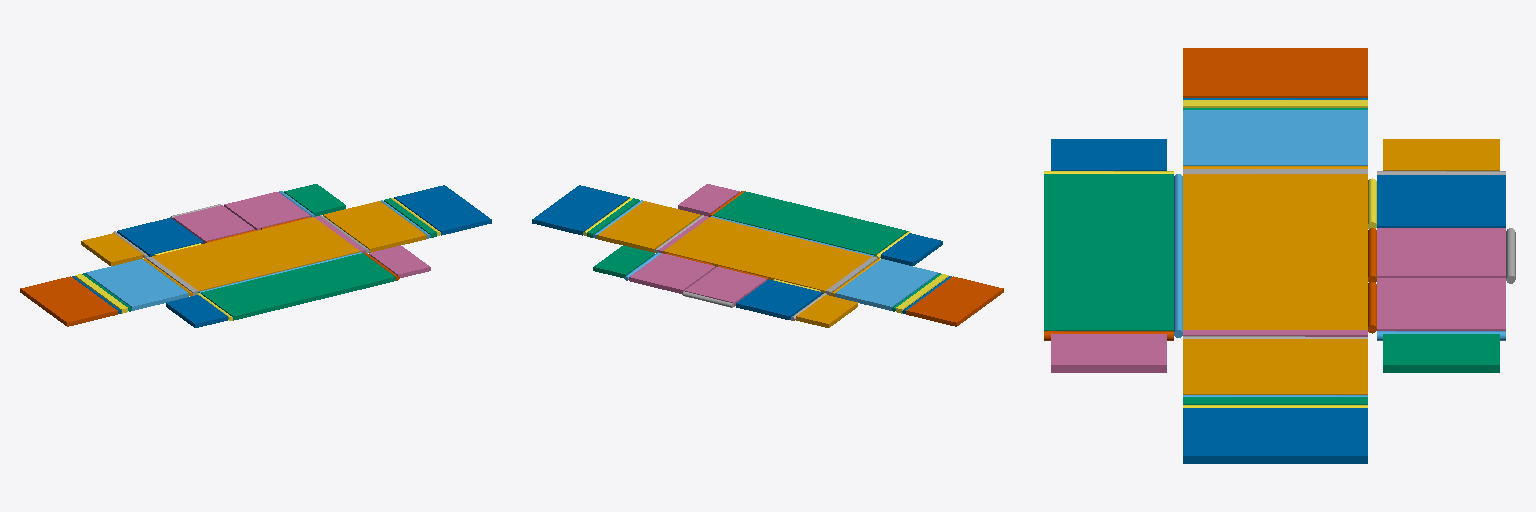
robot.urdf — box/box_bottom_left_right_top:
<?xml version="1.0"?>
<robot name="box/box_bottom_left_right_top">
 <link name="bottom">
  <inertial>
    <mass value="1"/>
    <inertia ixx="0.3335416666666667" ixy="0" ixz="0" iyy="0.41666666666666663" iyz="0" izz="0.08354166666666665"/>
  </inertial>
  <visual>
    <origin rpy="0 0 0" xyz="0 0 0"/>
    <geometry>
      <box size="2.0 1.0 0.05"/>
    </geometry>
  </visual>
  <collision>
    <origin rpy="0 0 0" xyz="0 0 0"/>
    <geometry>
      <box size="2.0 1.0 0.05"/>
    </geometry>
  </collision>
 </link>

 <link name="bottom-sideB">
  <inertial>
    <mass value="1"/>
    <inertia ixx="0.33348958333333334" ixy="0" ixz="0" iyy="0.33348958333333334" iyz="0" izz="0.00015625000000000003"/>
  </inertial>
  <visual>
    <origin rpy="0 1.57 0" xyz="0 -0.525 0"/>
    <geometry>
      <cylinder length="2.0" radius="0.025"/>
    </geometry>
  </visual>
  <collision>
    <origin rpy="0 1.57 0" xyz="0 -0.525 0"/>
    <geometry>
      <cylinder length="2.0" radius="0.025"/>
    </geometry>
  </collision>
 </link>

<joint name="joint_fixed_bottom_bottom-sideB" type="fixed">
  <origin rpy="0 0 0" xyz="0 0 0"/>
  <parent link="bottom"/>
  <child link="bottom-sideB"/>
</joint>

 <link name="sideB">
  <inertial>
    <mass value="1"/>
    <inertia ixx="0.3335416666666667" ixy="0" ixz="0" iyy="0.37416666666666665" iyz="0" izz="0.04104166666666666"/>
  </inertial>
  <visual>
    <origin rpy="0 0 0" xyz="0 -0.375 0"/>
    <geometry>
      <box size="2.0 0.7 0.05"/>
    </geometry>
  </visual>
  <collision>
    <origin rpy="0 0 0" xyz="0 -0.375 0"/>
    <geometry>
      <box size="2.0 0.7 0.05"/>
    </geometry>
  </collision>
 </link>

<joint name="joint_revolute_bottom-sideB_sideB_Z" type="revolute">
  <origin rpy="0 0 0" xyz="0 -0.525 0"/>
  <parent link="bottom-sideB"/>
  <child link="sideB"/>
  <axis xyz="1 0 0"/>
  <dynamics damping="0.01" friction="0.5"/>
  <limit lower="-1.57" upper="1.57" effort="0.01" velocity="100"/>
</joint>

 <link name="bottom-sideALEFT">
  <inertial>
    <mass value="1"/>
    <inertia ixx="0.02628958333333334" ixy="0" ixz="0" iyy="0.02628958333333334" iyz="0" izz="0.00015625000000000003"/>
  </inertial>
  <visual>
    <origin rpy="0 1.57 0" xyz="-0.66 0.525 0"/>
    <geometry>
      <cylinder length="0.56" radius="0.025"/>
    </geometry>
  </visual>
  <collision>
    <origin rpy="0 1.57 0" xyz="-0.66 0.525 0"/>
    <geometry>
      <cylinder length="0.56" radius="0.025"/>
    </geometry>
  </collision>
 </link>

<joint name="joint_fixed_bottom_bottom-sideALEFT" type="fixed">
  <origin rpy="0 0 0" xyz="0 0 0"/>
  <parent link="bottom"/>
  <child link="bottom-sideALEFT"/>
</joint>

 <link name="sideALEFT">
  <inertial>
    <mass value="1"/>
    <inertia ixx="0.03650833333333334" ixy="0" ixz="0" iyy="0.07713333333333333" iyz="0" izz="0.04104166666666666"/>
  </inertial>
  <visual>
    <origin rpy="0 0 0" xyz="-0.66 0.375 0"/>
    <geometry>
      <box size="0.66 0.7 0.05"/>
    </geometry>
  </visual>
  <collision>
    <origin rpy="0 0 0" xyz="-0.66 0.375 0"/>
    <geometry>
      <box size="0.66 0.7 0.05"/>
    </geometry>
  </collision>
 </link>

<joint name="joint_revolute_bottom-sideALEFT_sideALEFT_Z" type="revolute">
  <origin rpy="0 0 0" xyz="0 0.525 0"/>
  <parent link="bottom-sideALEFT"/>
  <child link="sideALEFT"/>
  <axis xyz="1 0 0"/>
  <dynamics damping="0.01" friction="0.5"/>
  <limit lower="-1.57" upper="1.57" effort="0.01" velocity="100"/>
</joint>

 <link name="bottom-sideARIGHT">
  <inertial>
    <mass value="1"/>
    <inertia ixx="0.02628958333333334" ixy="0" ixz="0" iyy="0.02628958333333334" iyz="0" izz="0.00015625000000000003"/>
  </inertial>
  <visual>
    <origin rpy="0 1.57 0" xyz="0.66 0.525 0"/>
    <geometry>
      <cylinder length="0.56" radius="0.025"/>
    </geometry>
  </visual>
  <collision>
    <origin rpy="0 1.57 0" xyz="0.66 0.525 0"/>
    <geometry>
      <cylinder length="0.56" radius="0.025"/>
    </geometry>
  </collision>
 </link>

<joint name="joint_fixed_bottom_bottom-sideARIGHT" type="fixed">
  <origin rpy="0 0 0" xyz="0 0 0"/>
  <parent link="bottom"/>
  <child link="bottom-sideARIGHT"/>
</joint>

 <link name="sideARIGHT">
  <inertial>
    <mass value="1"/>
    <inertia ixx="0.03650833333333334" ixy="0" ixz="0" iyy="0.07713333333333333" iyz="0" izz="0.04104166666666666"/>
  </inertial>
  <visual>
    <origin rpy="0 0 0" xyz="0.66 0.375 0"/>
    <geometry>
      <box size="0.66 0.7 0.05"/>
    </geometry>
  </visual>
  <collision>
    <origin rpy="0 0 0" xyz="0.66 0.375 0"/>
    <geometry>
      <box size="0.66 0.7 0.05"/>
    </geometry>
  </collision>
 </link>

<joint name="joint_revolute_bottom-sideARIGHT_sideARIGHT_Z" type="revolute">
  <origin rpy="0 0 0" xyz="0 0.525 0"/>
  <parent link="bottom-sideARIGHT"/>
  <child link="sideARIGHT"/>
  <axis xyz="1 0 0"/>
  <dynamics damping="0.01" friction="0.5"/>
  <limit lower="-1.57" upper="1.57" effort="0.01" velocity="100"/>
</joint>

 <link name="sideA-left">
  <inertial>
    <mass value="1"/>
    <inertia ixx="0.04098958333333332" ixy="0" ixz="0" iyy="0.04098958333333332" iyz="0" izz="0.00015625000000000003"/>
  </inertial>
  <visual>
    <origin rpy="1.57 0 0" xyz="-1.025 0 0"/>
    <geometry>
      <cylinder length="0.7" radius="0.025"/>
    </geometry>
  </visual>
  <collision>
    <origin rpy="1.57 0 0" xyz="-1.025 0 0"/>
    <geometry>
      <cylinder length="0.7" radius="0.025"/>
    </geometry>
  </collision>
 </link>

<joint name="joint_fixed_sideALEFT_sideA-left" type="fixed">
  <origin rpy="0 0 0" xyz="0 0.375 0"/>
  <parent link="sideALEFT"/>
  <child link="sideA-left"/>
</joint>

 <link name="sideA1">
  <inertial>
    <mass value="1"/>
    <inertia ixx="0.013541666666666669" ixy="0" ixz="0" iyy="0.046408333333333336" iyz="0" izz="0.03328333333333333"/>
  </inertial>
  <visual>
    <origin rpy="0 0 0" xyz="-0.225 0 0"/>
    <geometry>
      <box size="0.4 0.63 0.05"/>
    </geometry>
  </visual>
  <collision>
    <origin rpy="0 0 0" xyz="-0.225 0 0"/>
    <geometry>
      <box size="0.4 0.63 0.05"/>
    </geometry>
  </collision>
 </link>

<joint name="joint_revolute_sideA-left_sideA1_Z" type="revolute">
  <origin rpy="0 0 0" xyz="-1.025 0 0"/>
  <parent link="sideA-left"/>
  <child link="sideA1"/>
  <axis xyz="0 1 0"/>
  <dynamics damping="0.01" friction="0.5"/>
  <limit lower="-1.57" upper="1.57" effort="0.01" velocity="100"/>
</joint>

 <link name="sideA-right">
  <inertial>
    <mass value="1"/>
    <inertia ixx="0.04098958333333332" ixy="0" ixz="0" iyy="0.04098958333333332" iyz="0" izz="0.00015625000000000003"/>
  </inertial>
  <visual>
    <origin rpy="1.57 0 0" xyz="1.025 0 0"/>
    <geometry>
      <cylinder length="0.7" radius="0.025"/>
    </geometry>
  </visual>
  <collision>
    <origin rpy="1.57 0 0" xyz="1.025 0 0"/>
    <geometry>
      <cylinder length="0.7" radius="0.025"/>
    </geometry>
  </collision>
 </link>

<joint name="joint_fixed_sideARIGHT_sideA-right" type="fixed">
  <origin rpy="0 0 0" xyz="0 0.375 0"/>
  <parent link="sideARIGHT"/>
  <child link="sideA-right"/>
</joint>

 <link name="sideA2">
  <inertial>
    <mass value="1"/>
    <inertia ixx="0.013541666666666669" ixy="0" ixz="0" iyy="0.046408333333333336" iyz="0" izz="0.03328333333333333"/>
  </inertial>
  <visual>
    <origin rpy="0 0 0" xyz="0.225 0 0"/>
    <geometry>
      <box size="0.4 0.63 0.05"/>
    </geometry>
  </visual>
  <collision>
    <origin rpy="0 0 0" xyz="0.225 0 0"/>
    <geometry>
      <box size="0.4 0.63 0.05"/>
    </geometry>
  </collision>
 </link>

<joint name="joint_revolute_sideA-right_sideA2_Z" type="revolute">
  <origin rpy="0 0 0" xyz="1.025 0 0"/>
  <parent link="sideA-right"/>
  <child link="sideA2"/>
  <axis xyz="0 1 0"/>
  <dynamics damping="0.01" friction="0.5"/>
  <limit lower="-1.57" upper="1.57" effort="0.01" velocity="100"/>
</joint>

 <link name="sideB-left">
  <inertial>
    <mass value="1"/>
    <inertia ixx="0.04098958333333332" ixy="0" ixz="0" iyy="0.04098958333333332" iyz="0" izz="0.00015625000000000003"/>
  </inertial>
  <visual>
    <origin rpy="1.57 0 0" xyz="-1.025 0 0"/>
    <geometry>
      <cylinder length="0.7" radius="0.025"/>
    </geometry>
  </visual>
  <collision>
    <origin rpy="1.57 0 0" xyz="-1.025 0 0"/>
    <geometry>
      <cylinder length="0.7" radius="0.025"/>
    </geometry>
  </collision>
 </link>

<joint name="joint_fixed_sideB_sideB-left" type="fixed">
  <origin rpy="0 0 0" xyz="0 -0.375 0"/>
  <parent link="sideB"/>
  <child link="sideB-left"/>
</joint>

 <link name="sideB1">
  <inertial>
    <mass value="1"/>
    <inertia ixx="0.013541666666666669" ixy="0" ixz="0" iyy="0.046408333333333336" iyz="0" izz="0.03328333333333333"/>
  </inertial>
  <visual>
    <origin rpy="0 0 0" xyz="-0.225 0 0"/>
    <geometry>
      <box size="0.4 0.63 0.05"/>
    </geometry>
  </visual>
  <collision>
    <origin rpy="0 0 0" xyz="-0.225 0 0"/>
    <geometry>
      <box size="0.4 0.63 0.05"/>
    </geometry>
  </collision>
 </link>

<joint name="joint_revolute_sideB-left_sideB1_Z" type="revolute">
  <origin rpy="0 0 0" xyz="-1.025 0 0"/>
  <parent link="sideB-left"/>
  <child link="sideB1"/>
  <axis xyz="0 1 0"/>
  <dynamics damping="0.01" friction="0.5"/>
  <limit lower="-1.57" upper="1.57" effort="0.01" velocity="100"/>
</joint>

 <link name="sideB-right">
  <inertial>
    <mass value="1"/>
    <inertia ixx="0.04098958333333332" ixy="0" ixz="0" iyy="0.04098958333333332" iyz="0" izz="0.00015625000000000003"/>
  </inertial>
  <visual>
    <origin rpy="1.57 0 0" xyz="1.025 0 0"/>
    <geometry>
      <cylinder length="0.7" radius="0.025"/>
    </geometry>
  </visual>
  <collision>
    <origin rpy="1.57 0 0" xyz="1.025 0 0"/>
    <geometry>
      <cylinder length="0.7" radius="0.025"/>
    </geometry>
  </collision>
 </link>

<joint name="joint_fixed_sideB_sideB-right" type="fixed">
  <origin rpy="0 0 0" xyz="0 -0.375 0"/>
  <parent link="sideB"/>
  <child link="sideB-right"/>
</joint>

 <link name="sideB2">
  <inertial>
    <mass value="1"/>
    <inertia ixx="0.013541666666666669" ixy="0" ixz="0" iyy="0.046408333333333336" iyz="0" izz="0.03328333333333333"/>
  </inertial>
  <visual>
    <origin rpy="0 0 0" xyz="0.225 0 0"/>
    <geometry>
      <box size="0.4 0.63 0.05"/>
    </geometry>
  </visual>
  <collision>
    <origin rpy="0 0 0" xyz="0.225 0 0"/>
    <geometry>
      <box size="0.4 0.63 0.05"/>
    </geometry>
  </collision>
 </link>

<joint name="joint_revolute_sideB-right_sideB2_Z" type="revolute">
  <origin rpy="0 0 0" xyz="1.025 0 0"/>
  <parent link="sideB-right"/>
  <child link="sideB2"/>
  <axis xyz="0 1 0"/>
  <dynamics damping="0.01" friction="0.5"/>
  <limit lower="-1.57" upper="1.57" effort="0.01" velocity="100"/>
</joint>

 <link name="padB1">
  <inertial>
    <mass value="1"/>
    <inertia ixx="0.0005604166666666667" ixy="0" ixz="0" iyy="0.08368541666666665" iyz="0" izz="0.08354166666666665"/>
  </inertial>
  <visual>
    <origin rpy="0 0 0" xyz="-1.0325 0 0"/>
    <geometry>
      <box size="0.065 1.0 0.05"/>
    </geometry>
  </visual>
  <collision>
    <origin rpy="0 0 0" xyz="-1.0325 0 0"/>
    <geometry>
      <box size="0.065 1.0 0.05"/>
    </geometry>
  </collision>
 </link>

<joint name="joint_fixed_bottom_padB1" type="fixed">
  <origin rpy="0 0 0" xyz="0 0 0"/>
  <parent link="bottom"/>
  <child link="padB1"/>
</joint>

 <link name="padB-cylinder">
  <inertial>
    <mass value="1"/>
    <inertia ixx="0.08348958333333333" ixy="0" ixz="0" iyy="0.08348958333333333" iyz="0" izz="0.00015625000000000003"/>
  </inertial>
  <visual>
    <origin rpy="1.57 0 0" xyz="-1.0899999999999999 0 0"/>
    <geometry>
      <cylinder length="1.0" radius="0.025"/>
    </geometry>
  </visual>
  <collision>
    <origin rpy="1.57 0 0" xyz="-1.0899999999999999 0 0"/>
    <geometry>
      <cylinder length="1.0" radius="0.025"/>
    </geometry>
  </collision>
 </link>

<joint name="joint_fixed_padB1_padB-cylinder" type="fixed">
  <origin rpy="0 0 0" xyz="0 0 0"/>
  <parent link="padB1"/>
  <child link="padB-cylinder"/>
</joint>

 <link name="B1">
  <inertial>
    <mass value="1"/>
    <inertia ixx="0.04104166666666666" ixy="0" ixz="0" iyy="0.12416666666666666" iyz="0" izz="0.08354166666666665"/>
  </inertial>
  <visual>
    <origin rpy="0 0 0" xyz="-0.375 0 0"/>
    <geometry>
      <box size="0.7 1.0 0.05"/>
    </geometry>
  </visual>
  <collision>
    <origin rpy="0 0 0" xyz="-0.375 0 0"/>
    <geometry>
      <box size="0.7 1.0 0.05"/>
    </geometry>
  </collision>
 </link>

<joint name="joint_revolute_padB-cylinder_B1_Z" type="revolute">
  <origin rpy="0 0 0" xyz="-1.0899999999999999 0 0"/>
  <parent link="padB-cylinder"/>
  <child link="B1"/>
  <axis xyz="0 1 0"/>
  <dynamics damping="0.01" friction="0.5"/>
  <limit lower="-1.57" upper="1.57" effort="0.01" velocity="100"/>
</joint>

 <link name="padB2-cylinder">
  <inertial>
    <mass value="1"/>
    <inertia ixx="0.08348958333333333" ixy="0" ixz="0" iyy="0.08348958333333333" iyz="0" izz="0.00015625000000000003"/>
  </inertial>
  <visual>
    <origin rpy="1.57 0 0" xyz="-0.375 0 0"/>
    <geometry>
      <cylinder length="1.0" radius="0.025"/>
    </geometry>
  </visual>
  <collision>
    <origin rpy="1.57 0 0" xyz="-0.375 0 0"/>
    <geometry>
      <cylinder length="1.0" radius="0.025"/>
    </geometry>
  </collision>
 </link>

<joint name="joint_fixed_B1_padB2-cylinder" type="fixed">
  <origin rpy="0 0 0" xyz="-0.375 0 0"/>
  <parent link="B1"/>
  <child link="padB2-cylinder"/>
</joint>

 <link name="padB2">
  <inertial>
    <mass value="1"/>
    <inertia ixx="0.0007416666666666667" ixy="0" ixz="0" iyy="0.08386666666666666" iyz="0" izz="0.08354166666666665"/>
  </inertial>
  <visual>
    <origin rpy="0 0 0" xyz="-0.065 0 0"/>
    <geometry>
      <box size="0.08 1.0 0.05"/>
    </geometry>
  </visual>
  <collision>
    <origin rpy="0 0 0" xyz="-0.065 0 0"/>
    <geometry>
      <box size="0.08 1.0 0.05"/>
    </geometry>
  </collision>
 </link>

<joint name="joint_revolute_padB2-cylinder_padB2_Z" type="revolute">
  <origin rpy="0 0 0" xyz="-0.375 0 0"/>
  <parent link="padB2-cylinder"/>
  <child link="padB2"/>
  <axis xyz="0 1 0"/>
  <dynamics damping="0.01" friction="0.5"/>
  <limit lower="-1.57" upper="1.57" effort="0.01" velocity="100"/>
</joint>

 <link name="B2-cylinder">
  <inertial>
    <mass value="1"/>
    <inertia ixx="0.08348958333333333" ixy="0" ixz="0" iyy="0.08348958333333333" iyz="0" izz="0.00015625000000000003"/>
  </inertial>
  <visual>
    <origin rpy="1.57 0 0" xyz="-0.065 0 0"/>
    <geometry>
      <cylinder length="1.0" radius="0.025"/>
    </geometry>
  </visual>
  <collision>
    <origin rpy="1.57 0 0" xyz="-0.065 0 0"/>
    <geometry>
      <cylinder length="1.0" radius="0.025"/>
    </geometry>
  </collision>
 </link>

<joint name="joint_fixed_padB2_B2-cylinder" type="fixed">
  <origin rpy="0 0 0" xyz="-0.065 0 0"/>
  <parent link="padB2"/>
  <child link="B2-cylinder"/>
</joint>

 <link name="B2">
  <inertial>
    <mass value="1"/>
    <inertia ixx="0.03224166666666667" ixy="0" ixz="0" iyy="0.11536666666666667" iyz="0" izz="0.08354166666666665"/>
  </inertial>
  <visual>
    <origin rpy="0 0 0" xyz="-0.335 0 0"/>
    <geometry>
      <box size="0.62 1.0 0.05"/>
    </geometry>
  </visual>
  <collision>
    <origin rpy="0 0 0" xyz="-0.335 0 0"/>
    <geometry>
      <box size="0.62 1.0 0.05"/>
    </geometry>
  </collision>
 </link>

<joint name="joint_revolute_B2-cylinder_B2_Z" type="revolute">
  <origin rpy="0 0 0" xyz="-0.065 0 0"/>
  <parent link="B2-cylinder"/>
  <child link="B2"/>
  <axis xyz="0 1 0"/>
  <dynamics damping="0.01" friction="0.5"/>
  <limit lower="-1.57" upper="1.57" effort="0.01" velocity="100"/>
</joint>

 <link name="padB3">
  <inertial>
    <mass value="1"/>
    <inertia ixx="0.0005604166666666667" ixy="0" ixz="0" iyy="0.08368541666666665" iyz="0" izz="0.08354166666666665"/>
  </inertial>
  <visual>
    <origin rpy="0 0 0" xyz="1.0325 0 0"/>
    <geometry>
      <box size="0.065 1.0 0.05"/>
    </geometry>
  </visual>
  <collision>
    <origin rpy="0 0 0" xyz="1.0325 0 0"/>
    <geometry>
      <box size="0.065 1.0 0.05"/>
    </geometry>
  </collision>
 </link>

<joint name="joint_fixed_bottom_padB3" type="fixed">
  <origin rpy="0 0 0" xyz="0 0 0"/>
  <parent link="bottom"/>
  <child link="padB3"/>
</joint>

 <link name="padB3-cylinder">
  <inertial>
    <mass value="1"/>
    <inertia ixx="0.08348958333333333" ixy="0" ixz="0" iyy="0.08348958333333333" iyz="0" izz="0.00015625000000000003"/>
  </inertial>
  <visual>
    <origin rpy="1.57 0 0" xyz="1.0899999999999999 0 0"/>
    <geometry>
      <cylinder length="1.0" radius="0.025"/>
    </geometry>
  </visual>
  <collision>
    <origin rpy="1.57 0 0" xyz="1.0899999999999999 0 0"/>
    <geometry>
      <cylinder length="1.0" radius="0.025"/>
    </geometry>
  </collision>
 </link>

<joint name="joint_fixed_padB3_padB3-cylinder" type="fixed">
  <origin rpy="0 0 0" xyz="0 0 0"/>
  <parent link="padB3"/>
  <child link="padB3-cylinder"/>
</joint>

 <link name="B3">
  <inertial>
    <mass value="1"/>
    <inertia ixx="0.04104166666666666" ixy="0" ixz="0" iyy="0.12416666666666666" iyz="0" izz="0.08354166666666665"/>
  </inertial>
  <visual>
    <origin rpy="0 0 0" xyz="0.375 0 0"/>
    <geometry>
      <box size="0.7 1.0 0.05"/>
    </geometry>
  </visual>
  <collision>
    <origin rpy="0 0 0" xyz="0.375 0 0"/>
    <geometry>
      <box size="0.7 1.0 0.05"/>
    </geometry>
  </collision>
 </link>

<joint name="joint_revolute_padB3-cylinder_B3_Z" type="revolute">
  <origin rpy="0 0 0" xyz="1.0899999999999999 0 0"/>
  <parent link="padB3-cylinder"/>
  <child link="B3"/>
  <axis xyz="0 1 0"/>
  <dynamics damping="0.01" friction="0.5"/>
  <limit lower="-1.57" upper="1.57" effort="0.01" velocity="100"/>
</joint>

 <link name="padB4-cylinder">
  <inertial>
    <mass value="1"/>
    <inertia ixx="0.08348958333333333" ixy="0" ixz="0" iyy="0.08348958333333333" iyz="0" izz="0.00015625000000000003"/>
  </inertial>
  <visual>
    <origin rpy="1.57 0 0" xyz="0.375 0 0"/>
    <geometry>
      <cylinder length="1.0" radius="0.025"/>
    </geometry>
  </visual>
  <collision>
    <origin rpy="1.57 0 0" xyz="0.375 0 0"/>
    <geometry>
      <cylinder length="1.0" radius="0.025"/>
    </geometry>
  </collision>
 </link>

<joint name="joint_fixed_B3_padB4-cylinder" type="fixed">
  <origin rpy="0 0 0" xyz="0.375 0 0"/>
  <parent link="B3"/>
  <child link="padB4-cylinder"/>
</joint>

 <link name="padB4">
  <inertial>
    <mass value="1"/>
    <inertia ixx="0.0007416666666666667" ixy="0" ixz="0" iyy="0.08386666666666666" iyz="0" izz="0.08354166666666665"/>
  </inertial>
  <visual>
    <origin rpy="0 0 0" xyz="0.065 0 0"/>
    <geometry>
      <box size="0.08 1.0 0.05"/>
    </geometry>
  </visual>
  <collision>
    <origin rpy="0 0 0" xyz="0.065 0 0"/>
    <geometry>
      <box size="0.08 1.0 0.05"/>
    </geometry>
  </collision>
 </link>

<joint name="joint_revolute_padB4-cylinder_padB4_Z" type="revolute">
  <origin rpy="0 0 0" xyz="0.375 0 0"/>
  <parent link="padB4-cylinder"/>
  <child link="padB4"/>
  <axis xyz="0 1 0"/>
  <dynamics damping="0.01" friction="0.5"/>
  <limit lower="-1.57" upper="1.57" effort="0.01" velocity="100"/>
</joint>

 <link name="B4-cylinder">
  <inertial>
    <mass value="1"/>
    <inertia ixx="0.08348958333333333" ixy="0" ixz="0" iyy="0.08348958333333333" iyz="0" izz="0.00015625000000000003"/>
  </inertial>
  <visual>
    <origin rpy="1.57 0 0" xyz="0.065 0 0"/>
    <geometry>
      <cylinder length="1.0" radius="0.025"/>
    </geometry>
  </visual>
  <collision>
    <origin rpy="1.57 0 0" xyz="0.065 0 0"/>
    <geometry>
      <cylinder length="1.0" radius="0.025"/>
    </geometry>
  </collision>
 </link>

<joint name="joint_fixed_padB4_B4-cylinder" type="fixed">
  <origin rpy="0 0 0" xyz="0.065 0 0"/>
  <parent link="padB4"/>
  <child link="B4-cylinder"/>
</joint>

 <link name="B4">
  <inertial>
    <mass value="1"/>
    <inertia ixx="0.03224166666666667" ixy="0" ixz="0" iyy="0.11536666666666667" iyz="0" izz="0.08354166666666665"/>
  </inertial>
  <visual>
    <origin rpy="0 0 0" xyz="0.335 0 0"/>
    <geometry>
      <box size="0.62 1.0 0.05"/>
    </geometry>
  </visual>
  <collision>
    <origin rpy="0 0 0" xyz="0.335 0 0"/>
    <geometry>
      <box size="0.62 1.0 0.05"/>
    </geometry>
  </collision>
 </link>

<joint name="joint_revolute_B4-cylinder_B4_Z" type="revolute">
  <origin rpy="0 0 0" xyz="0.065 0 0"/>
  <parent link="B4-cylinder"/>
  <child link="B4"/>
  <axis xyz="0 1 0"/>
  <dynamics damping="0.01" friction="0.5"/>
  <limit lower="-1.57" upper="1.57" effort="0.01" velocity="100"/>
</joint>

 <link name="zbottom-ZsideA">
  <inertial>
    <mass value="1"/>
    <inertia ixx="0.03116458333333333" ixy="0" ixz="0" iyy="0.03116458333333333" iyz="0" izz="0.00015625000000000003"/>
  </inertial>
  <visual>
    <origin rpy="0 1.57 0" xyz="0 0.525 0"/>
    <geometry>
      <cylinder length="0.61" radius="0.025"/>
    </geometry>
  </visual>
  <collision>
    <origin rpy="0 1.57 0" xyz="0 0.525 0"/>
    <geometry>
      <cylinder length="0.61" radius="0.025"/>
    </geometry>
  </collision>
 </link>

<joint name="joint_fixed_bottom_zbottom-ZsideA" type="fixed">
  <origin rpy="0 0 0" xyz="0 0 0"/>
  <parent link="bottom"/>
  <child link="zbottom-ZsideA"/>
</joint>

 <link name="ZsideA">
  <inertial>
    <mass value="1"/>
    <inertia ixx="0.031216666666666663" ixy="0" ixz="0" iyy="0.07184166666666665" iyz="0" izz="0.04104166666666666"/>
  </inertial>
  <visual>
    <origin rpy="0 0 0" xyz="0 0.375 0"/>
    <geometry>
      <box size="0.61 0.7 0.05"/>
    </geometry>
  </visual>
  <collision>
    <origin rpy="0 0 0" xyz="0 0.375 0"/>
    <geometry>
      <box size="0.61 0.7 0.05"/>
    </geometry>
  </collision>
 </link>

<joint name="joint_revolute_zbottom-ZsideA_ZsideA_Z" type="revolute">
  <origin rpy="0 0 0" xyz="0 0.525 0"/>
  <parent link="zbottom-ZsideA"/>
  <child link="ZsideA"/>
  <axis xyz="1 0 0"/>
  <dynamics damping="0.01" friction="0.5"/>
  <limit lower="-1.57" upper="1.57" effort="0.01" velocity="100"/>
</joint>

 <link name="ZsideA-top">
  <inertial>
    <mass value="1"/>
    <inertia ixx="0.03116458333333333" ixy="0" ixz="0" iyy="0.03116458333333333" iyz="0" izz="0.00015625000000000003"/>
  </inertial>
  <visual>
    <origin rpy="0 1.57 0" xyz="0 0.375 0"/>
    <geometry>
      <cylinder length="0.61" radius="0.025"/>
    </geometry>
  </visual>
  <collision>
    <origin rpy="0 1.57 0" xyz="0 0.375 0"/>
    <geometry>
      <cylinder length="0.61" radius="0.025"/>
    </geometry>
  </collision>
 </link>

<joint name="joint_fixed_ZsideA_ZsideA-top" type="fixed">
  <origin rpy="0 0 0" xyz="0 0.375 0"/>
  <parent link="ZsideA"/>
  <child link="ZsideA-top"/>
</joint>

  <klampt package_root="../../.." default_acc_max="4" >
  </klampt>
</robot>

--- Facts derived from the render (not from the file) ---
Views: 3 orthographic renders of the robot side by side, from view 1: azimuth 30°, elevation 25°; view 2: azimuth 150°, elevation 25°; view 3: azimuth 270°, elevation 25°.
Robot: box/box_bottom_left_right_top — 32 links, 31 joints (14 revolute, 17 fixed); root link bottom; default pose: every joint at zero.
Links seen in each view (by area): view 1: bottom, sideB, B1, B3, B2, B4, sideARIGHT, sideALEFT, ZsideA, sideB1, sideA1, sideB2 (+1 smaller); view 2: bottom, sideB, B1, B3, B2, B4, sideALEFT, sideARIGHT, ZsideA, sideA1, sideB1, sideA2 (+1 smaller); view 3: bottom, sideB, B1, B3, B4, B2, sideALEFT, sideARIGHT, ZsideA, sideA2, sideB2, sideA1 (+9 smaller).
Link boxes in pixels (x1,y1,x2,y2): bottom: (152,217,360,291); sideB: (201,253,395,320); B1: (85,259,188,310); B3: (323,201,426,252); B2: (20,276,117,326); B4: (394,185,491,235); sideARIGHT: (224,192,310,230); sideALEFT: (117,218,202,256); ZsideA: (173,205,254,243); sideB1: (166,295,227,327); sideA1: (81,233,142,265); sideB2: (369,245,430,277); bottom: (663,217,871,293); sideB: (713,191,907,255); B1: (835,259,938,310); B3: (597,201,700,252); B2: (906,276,1003,326); B4: (532,185,629,235); sideALEFT: (736,279,822,319); sideARIGHT: (629,253,714,293); ZsideA: (685,267,766,306); sideA1: (796,295,857,327); sideB1: (881,233,942,265); sideA2: (593,245,654,277); bottom: (1183,174,1367,329); sideB: (1044,174,1173,330); B1: (1183,110,1367,165); B3: (1183,339,1367,394); B4: (1183,408,1367,463); B2: (1183,48,1367,97); sideALEFT: (1377,175,1505,227); sideARIGHT: (1377,278,1505,330); ZsideA: (1377,228,1505,277); sideA2: (1383,334,1499,372); sideB2: (1051,334,1166,372); sideA1: (1383,139,1499,170).
Size in the robot's own frame: 5.23 by 2.55 by 0.0516 metres.
Geometry: primitives only (box / cylinder / sphere), no mesh files.